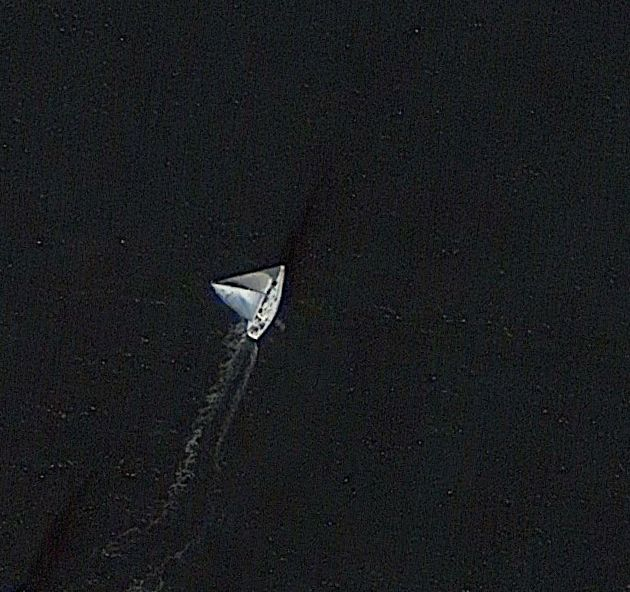boat: (210, 261, 289, 341)
